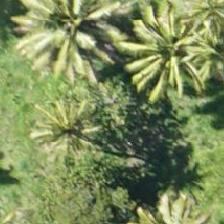coconut_tree: (26, 100, 116, 190), (136, 0, 223, 89), (101, 0, 191, 74), (35, 0, 125, 72), (50, 0, 140, 70)
